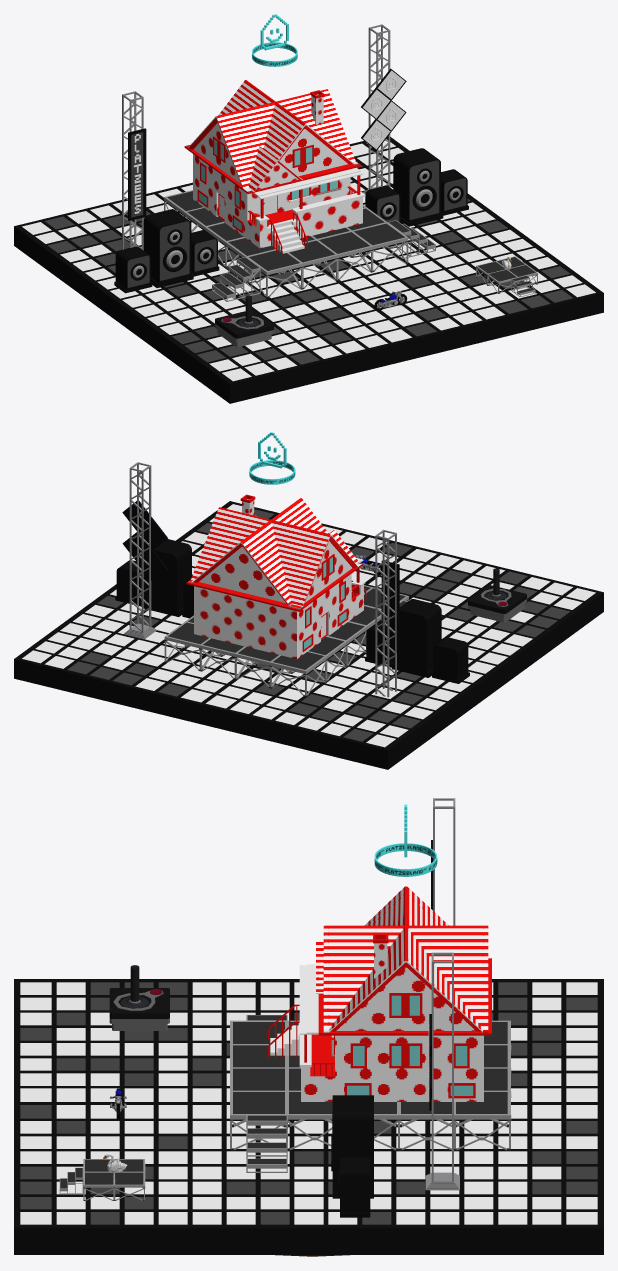
3 renders of one model, top to bottom at view 1: azimuth 30°, elevation 25°; view 2: azimuth 150°, elevation 25°; view 3: azimuth 270°, elevation 25°, orthographic. The views are drawn at different scales.
Visible parts, largest first — view 1: Cube.008, Cube.196, OBJRANDOM_JOYSTICK, TYPE_PREMIUM; view 2: Cube.008, Cube.196, OBJRANDOM_JOYSTICK, TYPE_PREMIUM; view 3: Cube.008, Cube.196, OBJRANDOM_JOYSTICK, TYPE_PREMIUM.
Boxes of the visible parts, left/top/right/bottom form: Cube.008: left=14, top=24, right=603, bottom=403; Cube.196: left=184, top=80, right=365, bottom=254; OBJRANDOM_JOYSTICK: left=215, top=295, right=273, bottom=347; TYPE_PREMIUM: left=252, top=14, right=297, bottom=66; Cube.008: left=14, top=462, right=603, bottom=769; Cube.196: left=186, top=494, right=366, bottom=658; OBJRANDOM_JOYSTICK: left=468, top=568, right=526, bottom=622; TYPE_PREMIUM: left=249, top=432, right=295, bottom=484; Cube.008: left=14, top=798, right=603, bottom=1254; Cube.196: left=268, top=886, right=491, bottom=1101; OBJRANDOM_JOYSTICK: left=109, top=965, right=169, bottom=1030; TYPE_PREMIUM: left=374, top=804, right=437, bottom=876.
Size of the model in its own units: 4000 by 2578 by 4000.
Materials: 40 (3 with a texture image).
